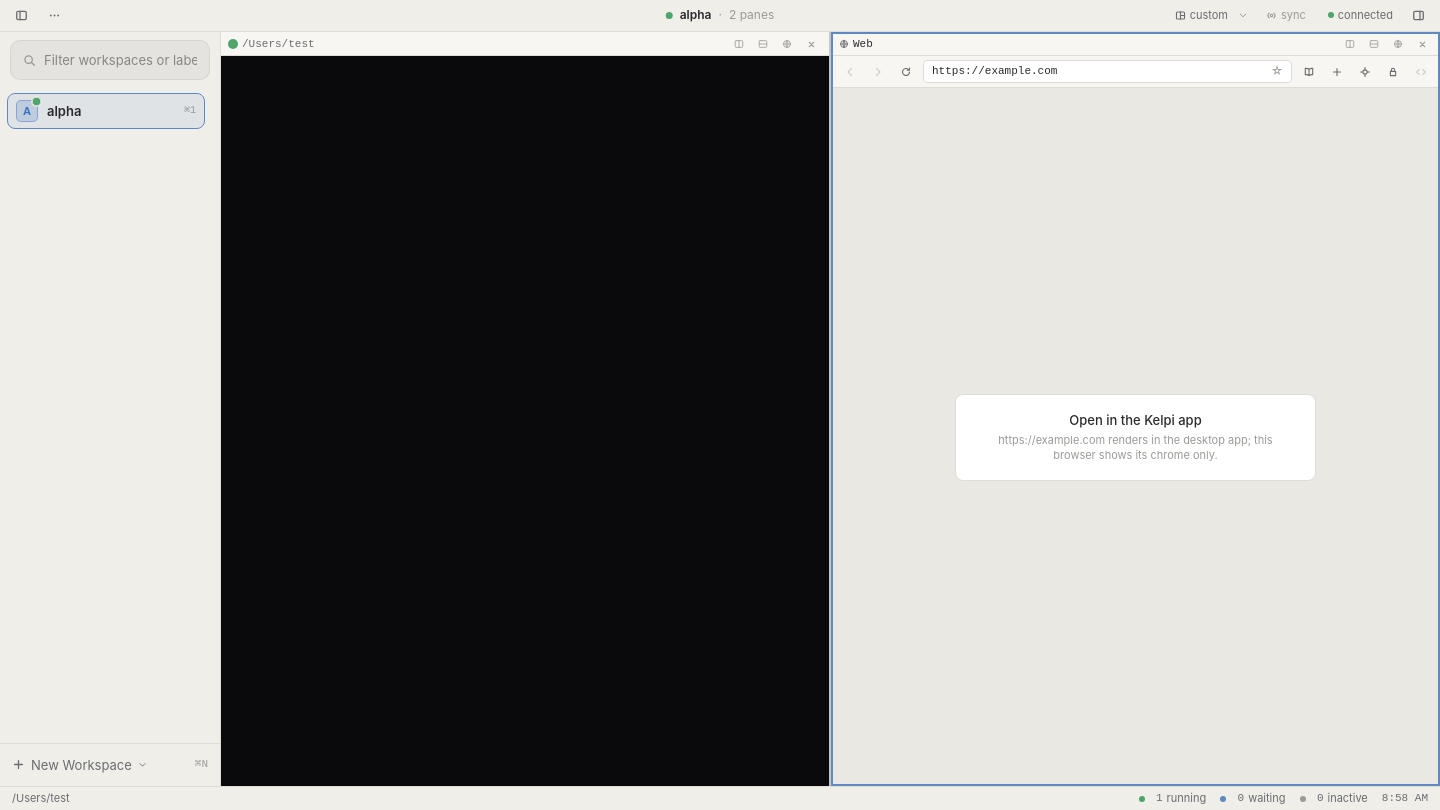
modals park a live web pane (§H1) › the popups H1 never enrolled (§N26) › the footer's bucket popover parks it (it rises off the bar into the grid)
Click the button with test id "count-running": (1172, 798) [1139,787,1206,809]
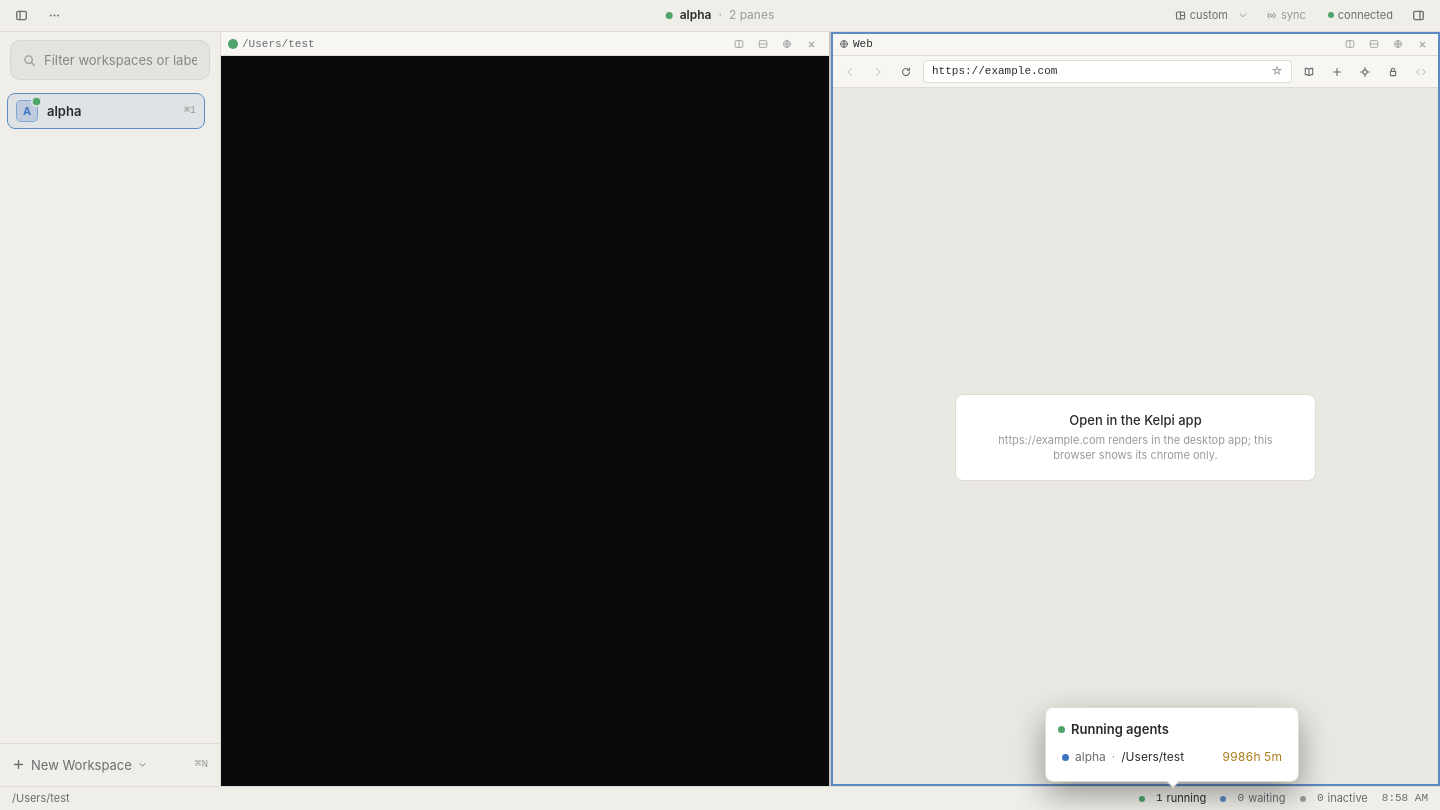
Expected: the dialog with test id "bucket-popover" is shown, [1045,707,1299,782]
Press Escape
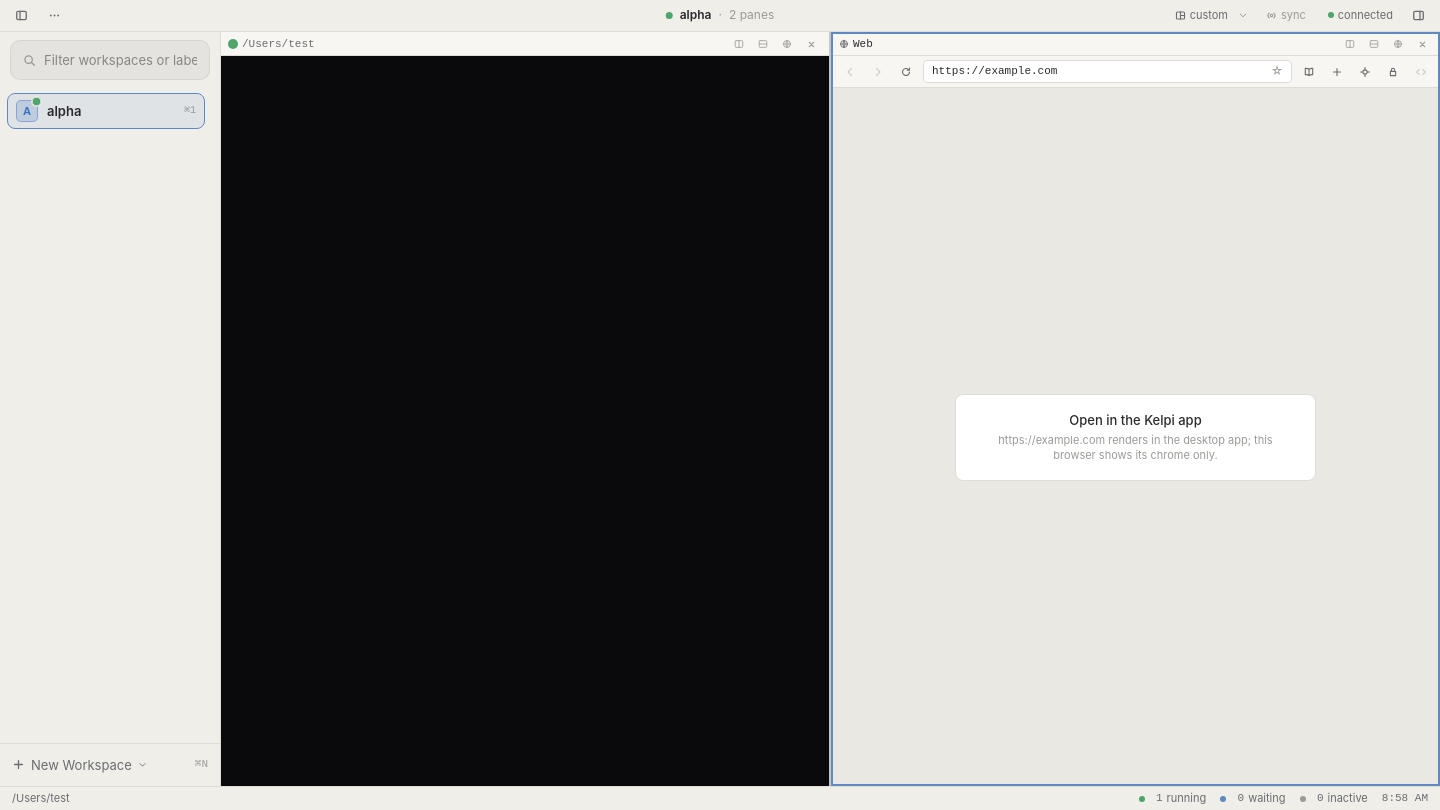
Expected: the dialog with test id "bucket-popover" is gone
